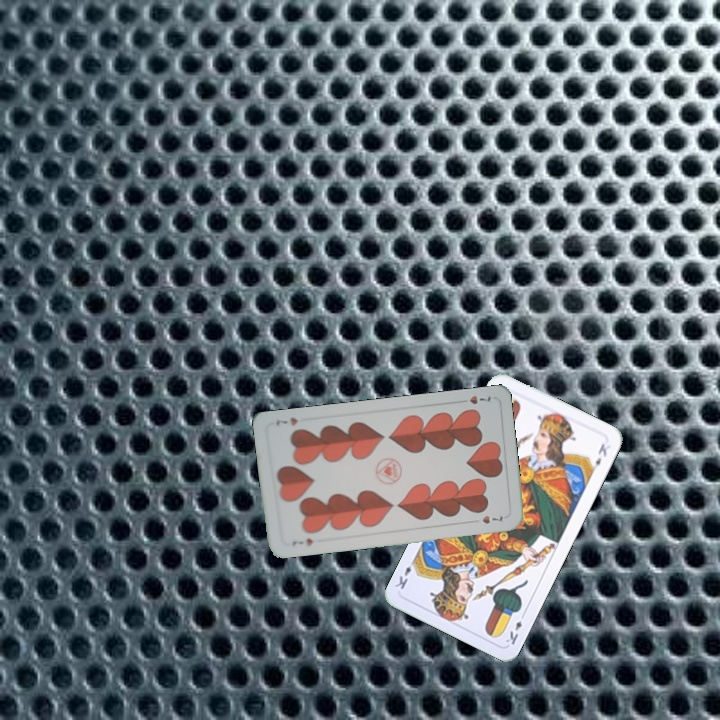EK: (502, 608, 528, 648)
H7: (454, 391, 493, 407), (288, 534, 315, 548)
